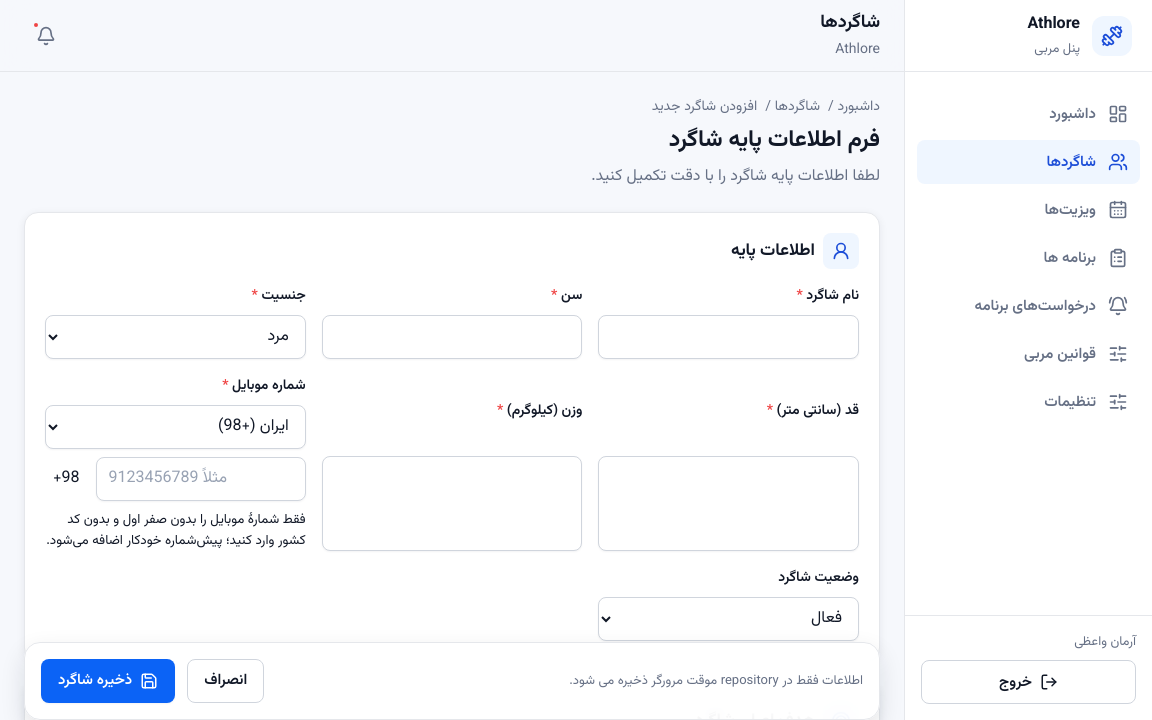
Test: StudentFormPage › shows required validation errors
Expected: the heading "فرم اطلاعات پایه شاگرد" is shown, [669,122,880,158]
Click the button "ذخیره شاگرد" at (108, 681), box [41,659,175,703]
(page scrolled)
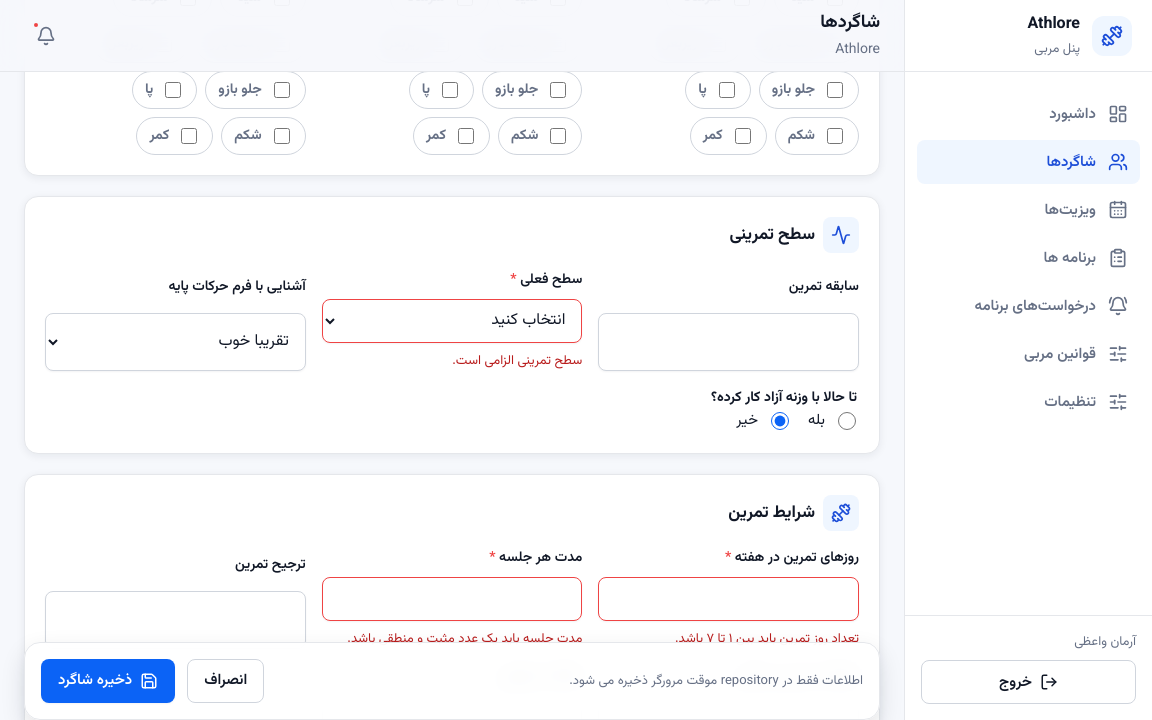
Expected: the text "سطح تمرینی الزامی است." is shown, [452,351,582,371]
